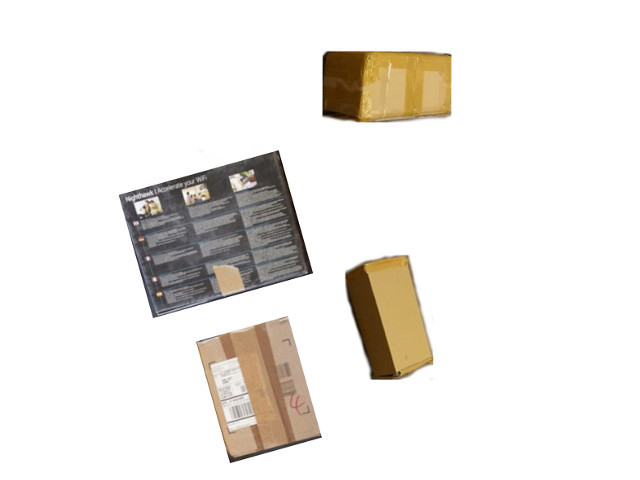cardboard: (120, 153, 311, 318), (197, 318, 322, 457), (348, 256, 432, 378), (321, 50, 451, 119)
